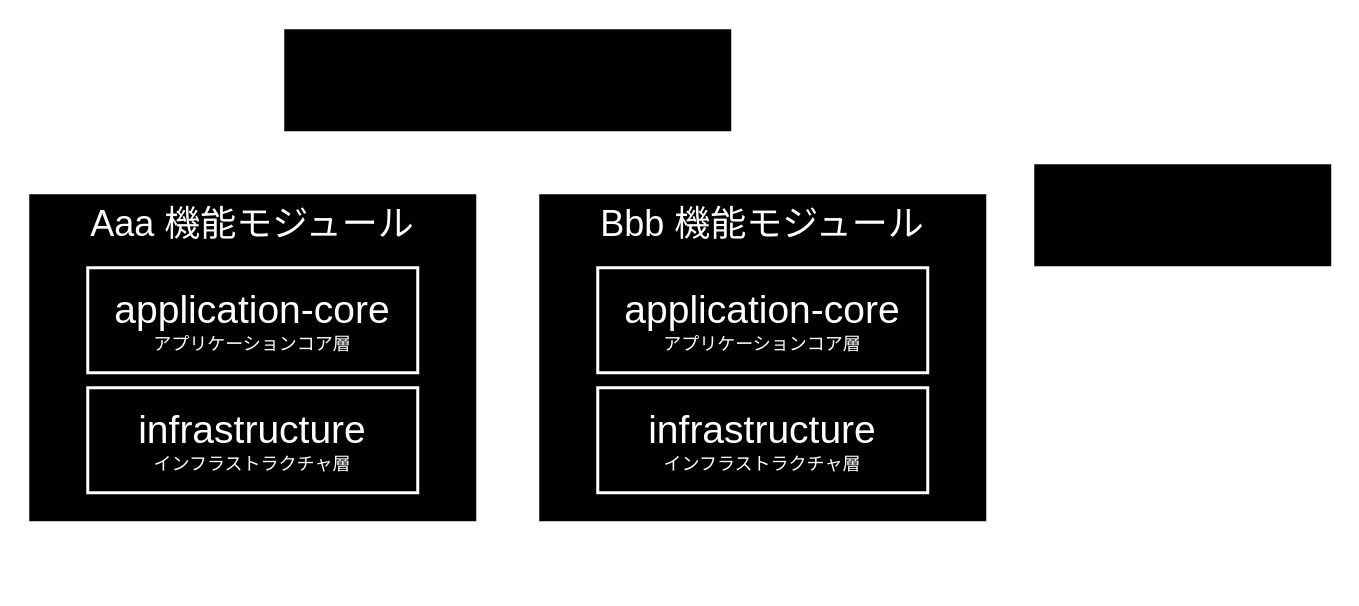
Image size: 1359x606. Some labels were removed from this diagram. The shapes that lost their labels are listed below. From the top down, each one's centre as x and y in pixels, then its label:
point 507,80: web プレゼンテーション層
point 1182,214: system-common システム共通機能
